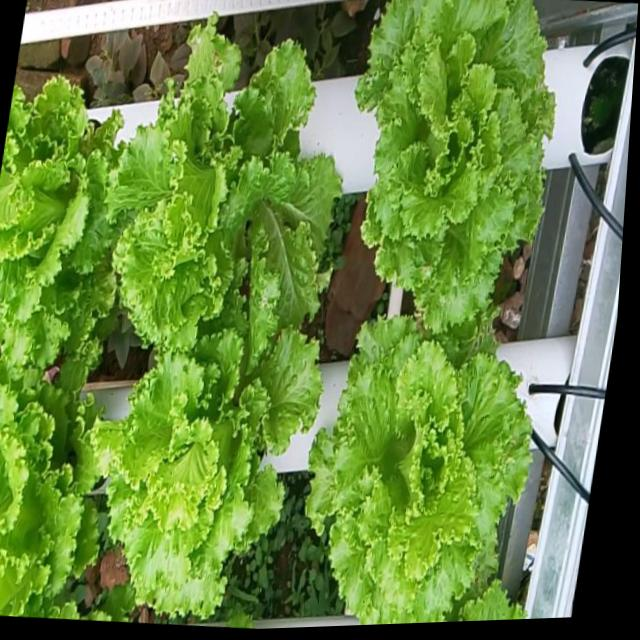Mature: (106, 17, 341, 348), (88, 297, 320, 620), (305, 315, 530, 625), (354, 0, 554, 335), (0, 75, 120, 370), (0, 358, 96, 617)
